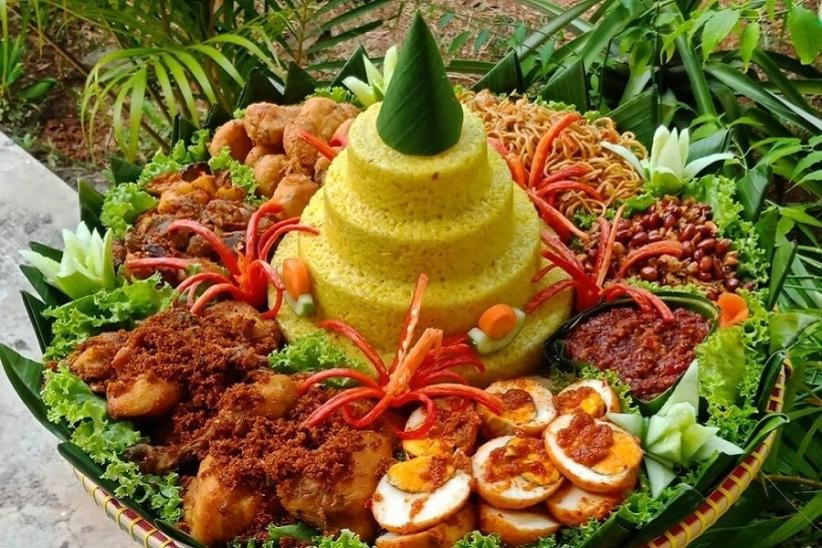tumpeng: (245, 17, 611, 405)
